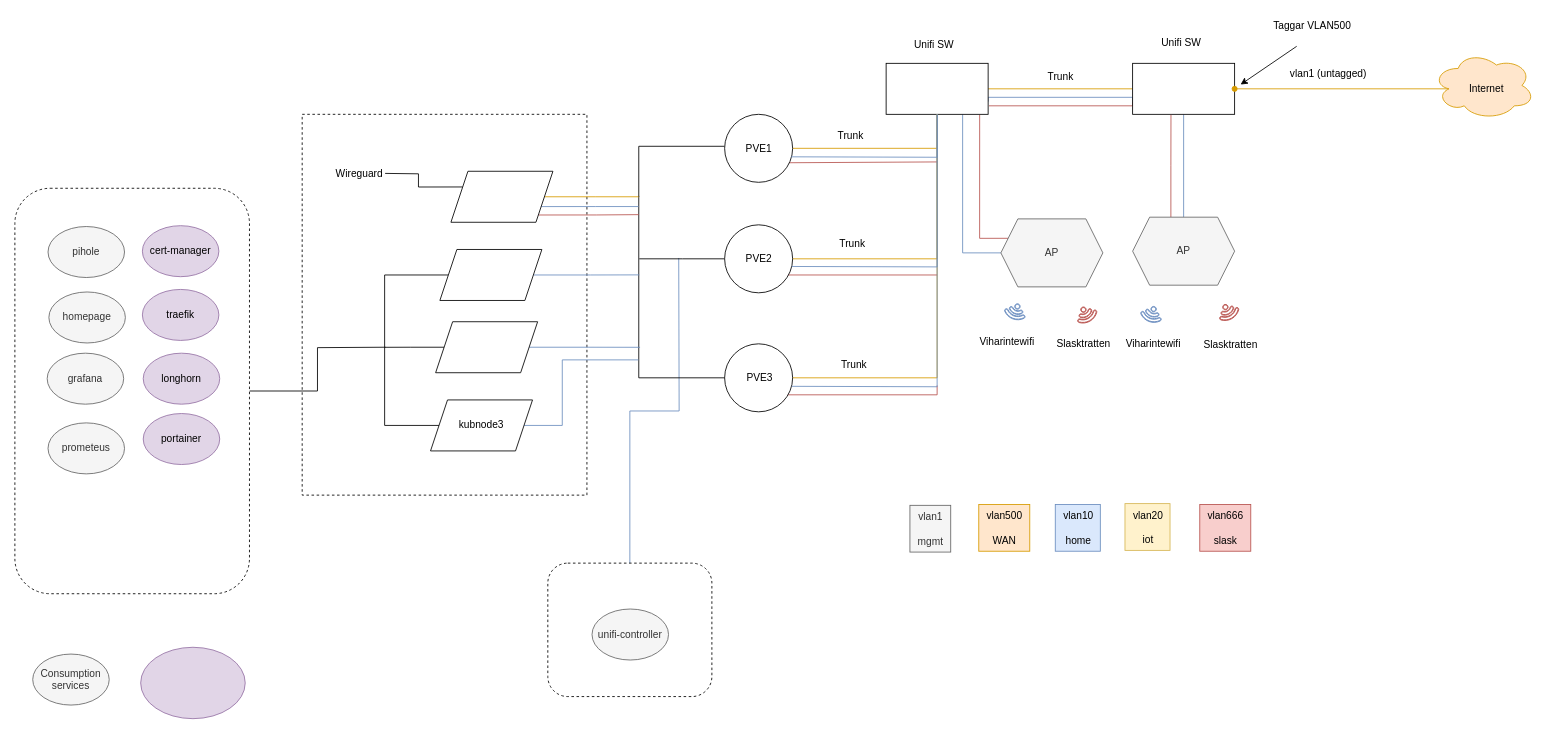
Some shapes in this 1550 by 734 pixel diagram are drawn without their labels. Here are the shapes that lost their labels. From the top down, the centre of each, then its label:
At (936,88): "SW2".
At (1183,88): "SW1".
At (501,196): "opensense".
At (490,274): "kubnode1".
At (486,347): "kubnode2".
At (192,682): "Services required to deploy services".
